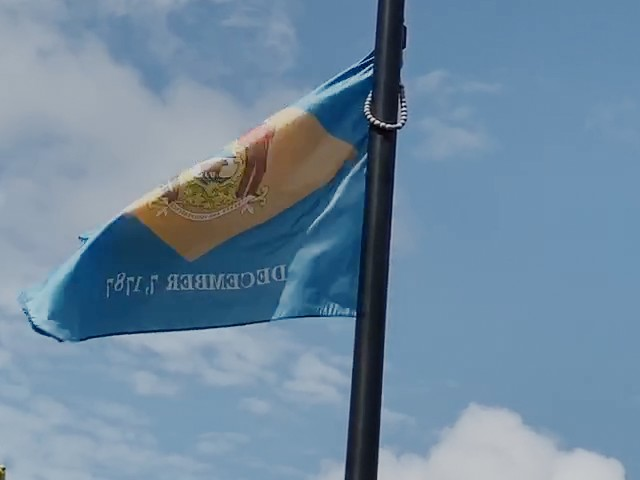Delaware flag: (12, 41, 378, 341)
